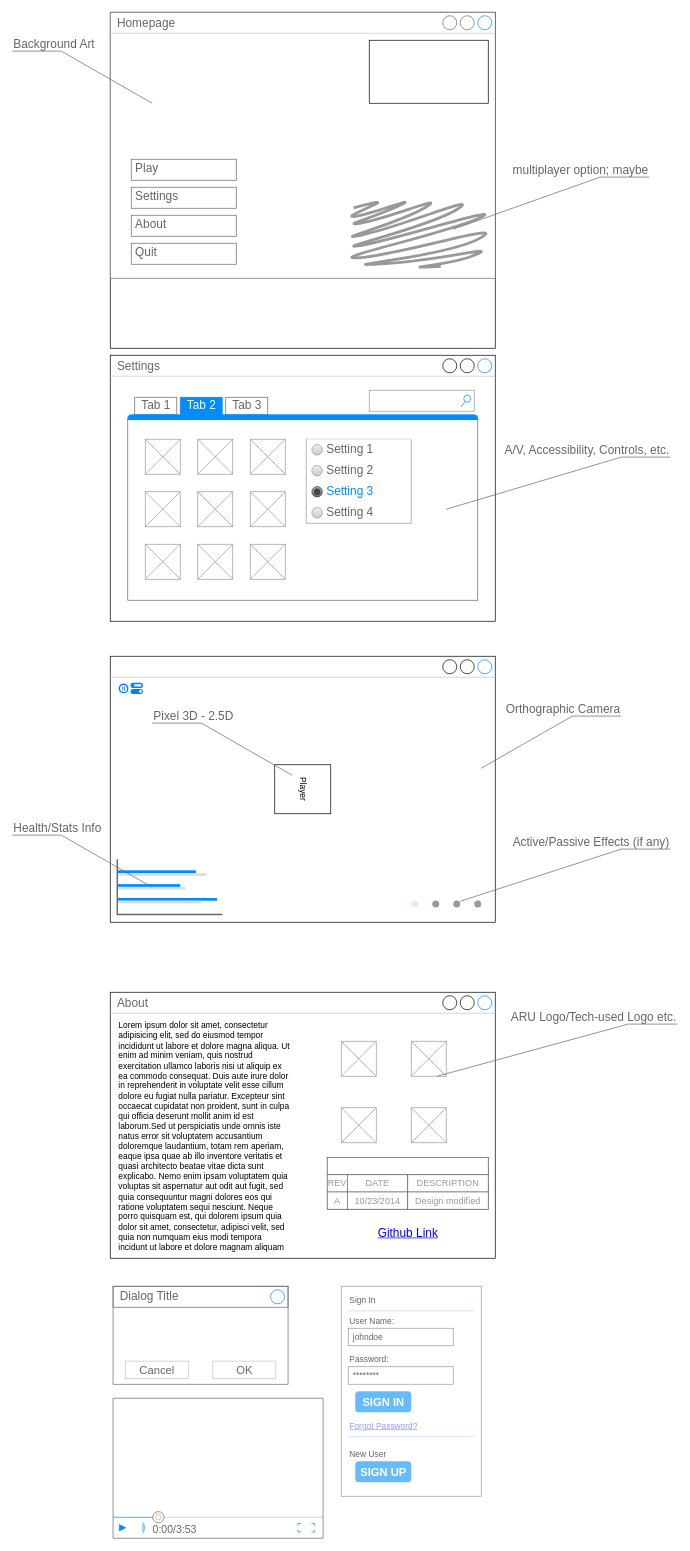
The diagram is 690 pixels wide and 1551 high, and some of its shapes have lost their labels. Each missing label, with the box of its shape:
Game HUD: (110, 656, 495, 922)
Game Title: (369, 40, 488, 103)
REVISION HISTORY: (327, 1157, 488, 1175)
Search: (369, 390, 474, 411)
Some default dialog text.: (112, 1286, 288, 1384)
